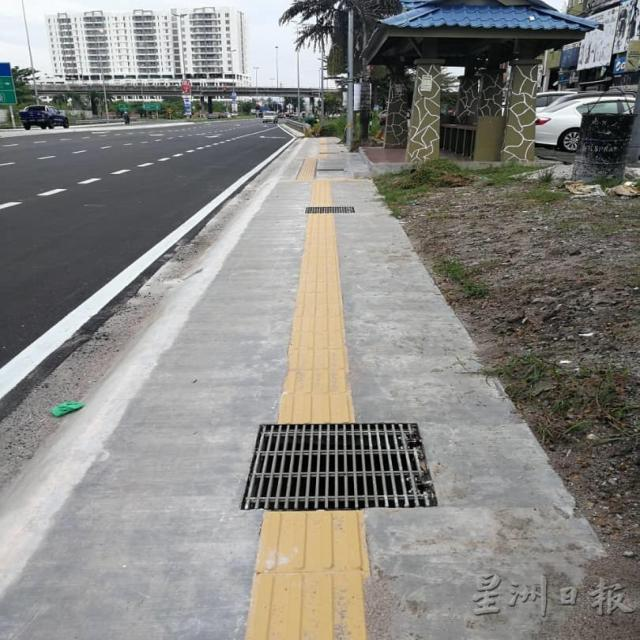tactile-guide-path: (274, 213, 352, 424), (244, 511, 370, 639), (308, 178, 334, 209)
